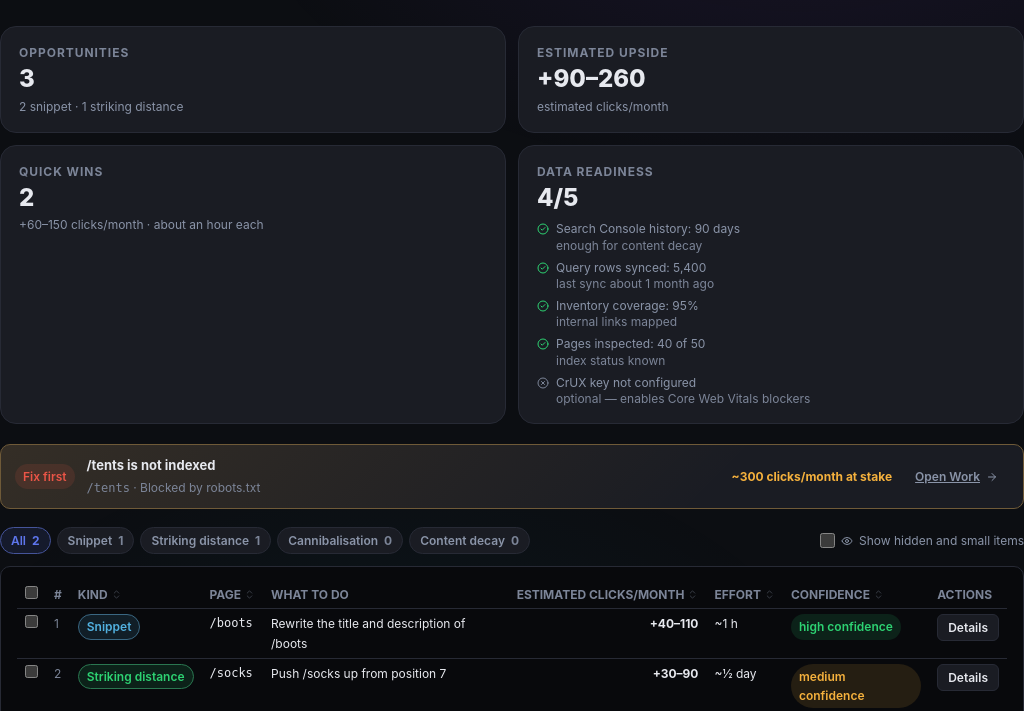
Scenario: renders a row with its estimate and hides small items by default
The image size is (1024, 711).
Expected: the text "Rewrite the title and description of /boots" is shown, [263, 609, 509, 658]
Expected: the text "+40–110" is shown, [650, 616, 698, 631]
Click the checkbox labelled "Show hidden and small items" at (828, 541), box [820, 533, 835, 548]
(page scrolled)
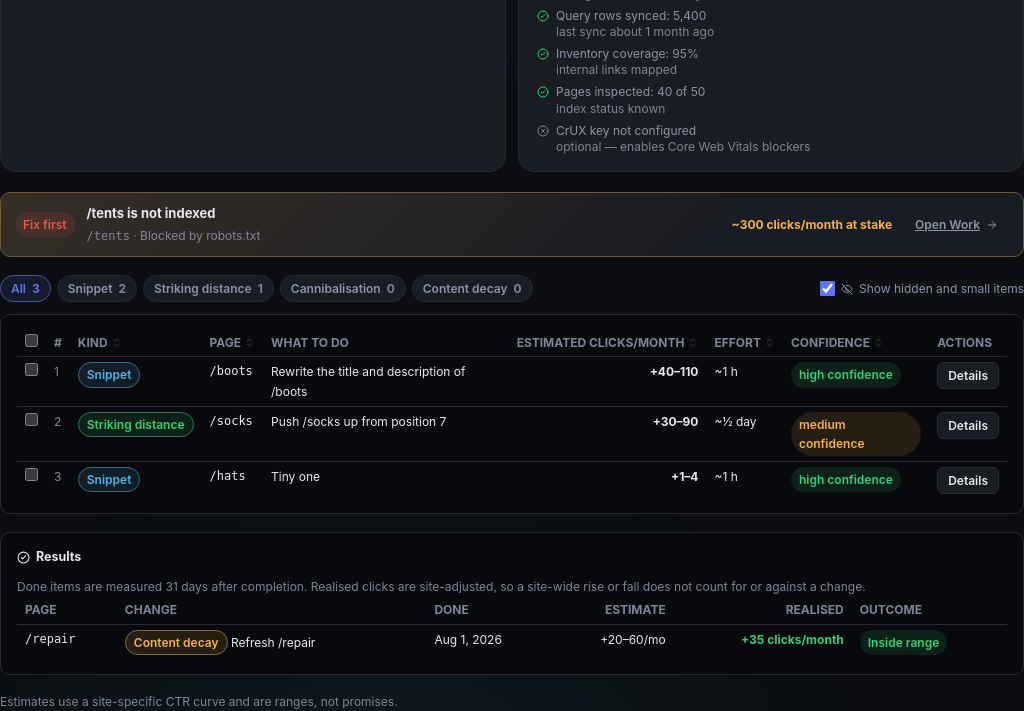
Expected: the text "Inside range" is shown, [860, 630, 947, 655]
Expected: the text "Tiny one" is shown, [263, 462, 509, 499]
